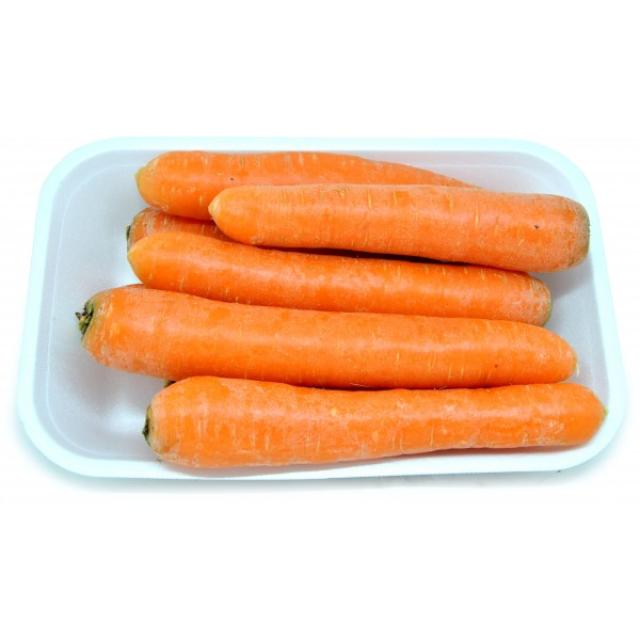Carrot: (148, 377, 597, 459)
